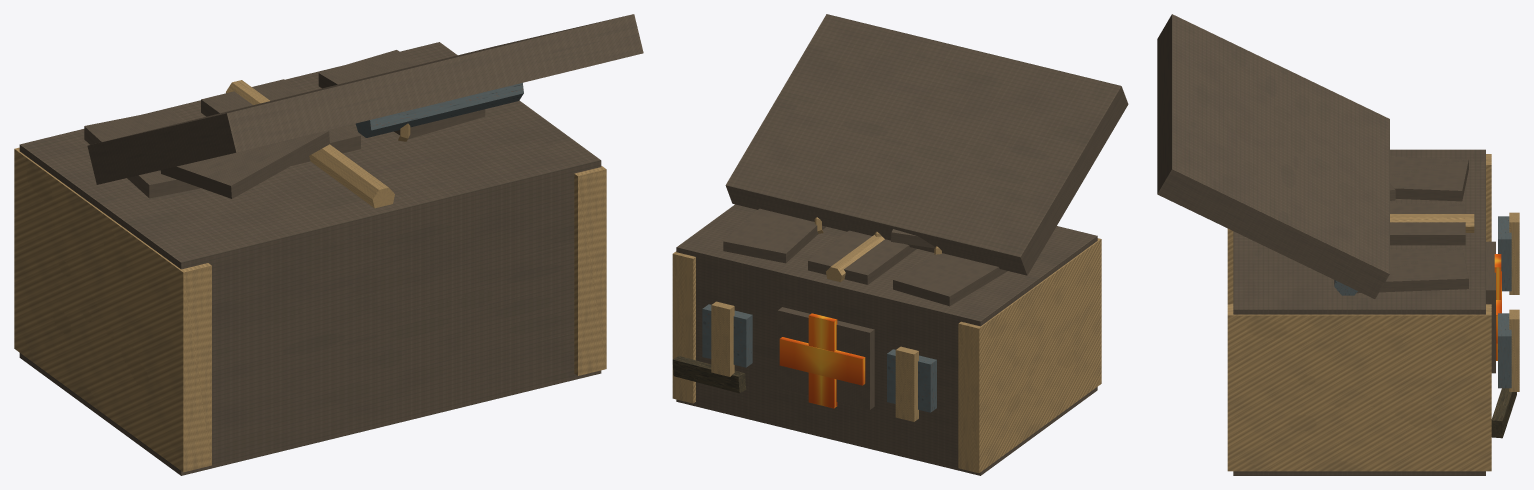
File: pr-006_first_aid_kit__open.obj
3 renders of one model, left to right at view 1: azimuth 30°, elevation 25°; view 2: azimuth 150°, elevation 25°; view 3: azimuth 270°, elevation 25°, orthographic. The views are drawn at different scales.
Parts seen in each view (by area): view 1: pr-006_first_aid_kit__open; view 2: pr-006_first_aid_kit__open; view 3: pr-006_first_aid_kit__open.
Part boxes in pixels (x1=…): pr-006_first_aid_kit__open: x1=14, y1=14, x2=643, y2=475; pr-006_first_aid_kit__open: x1=672, y1=14, x2=1128, y2=475; pr-006_first_aid_kit__open: x1=1157, y1=14, x2=1519, y2=475.
Bounding box in the file's own units: 0.665 × 0.5852 × 0.6317.
5 materials, 5 textured.
